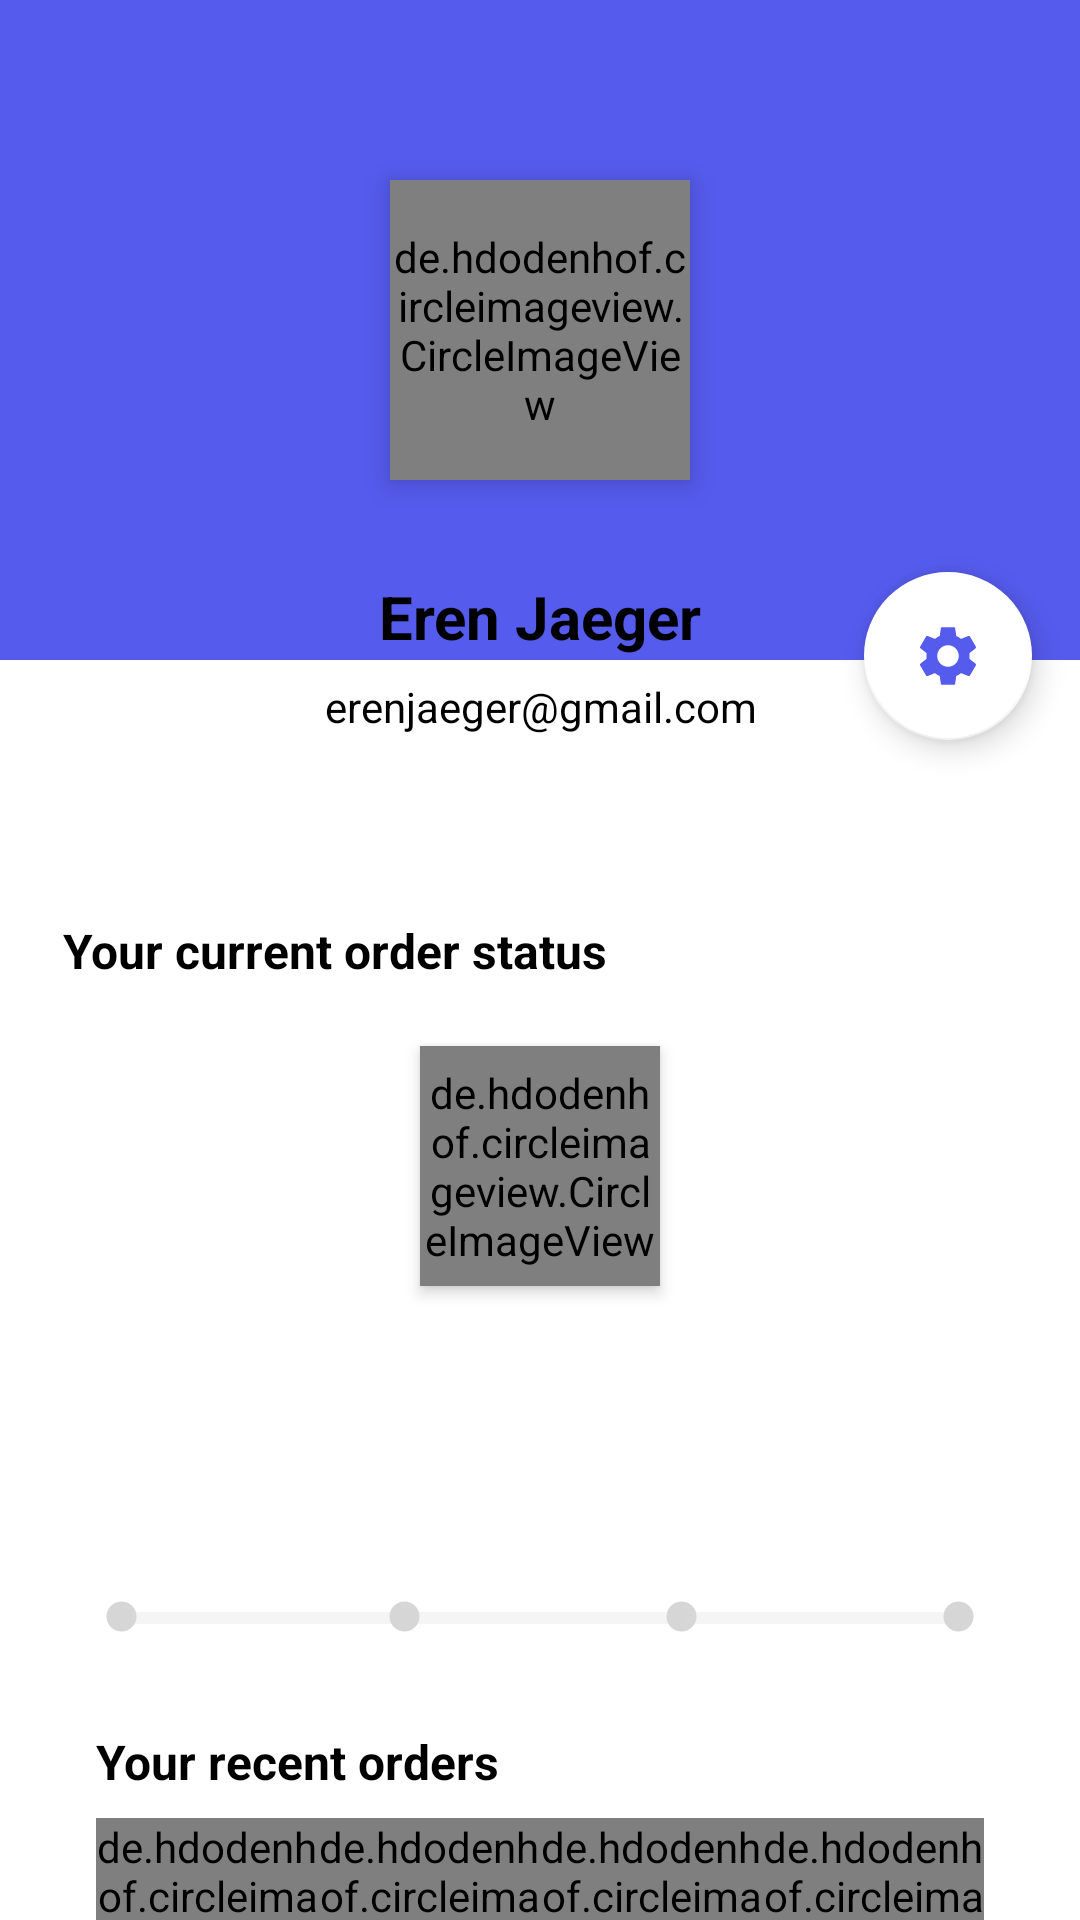

Named icons in this screenshot (1080*1920) and their centers, (x=x, y=y):
settings: (x=948, y=656)
